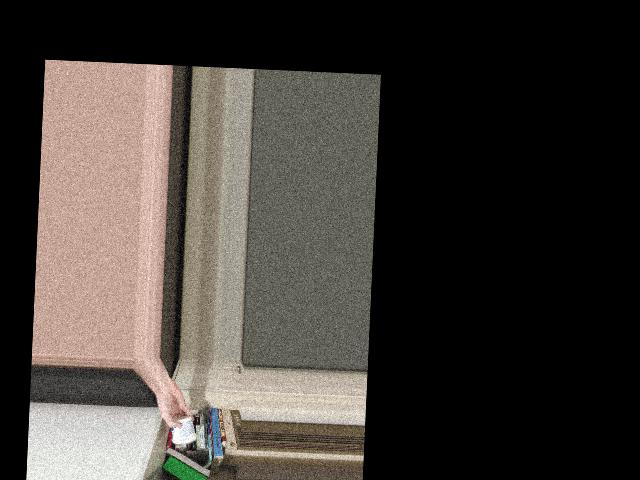cotage: (167, 408, 199, 446)
